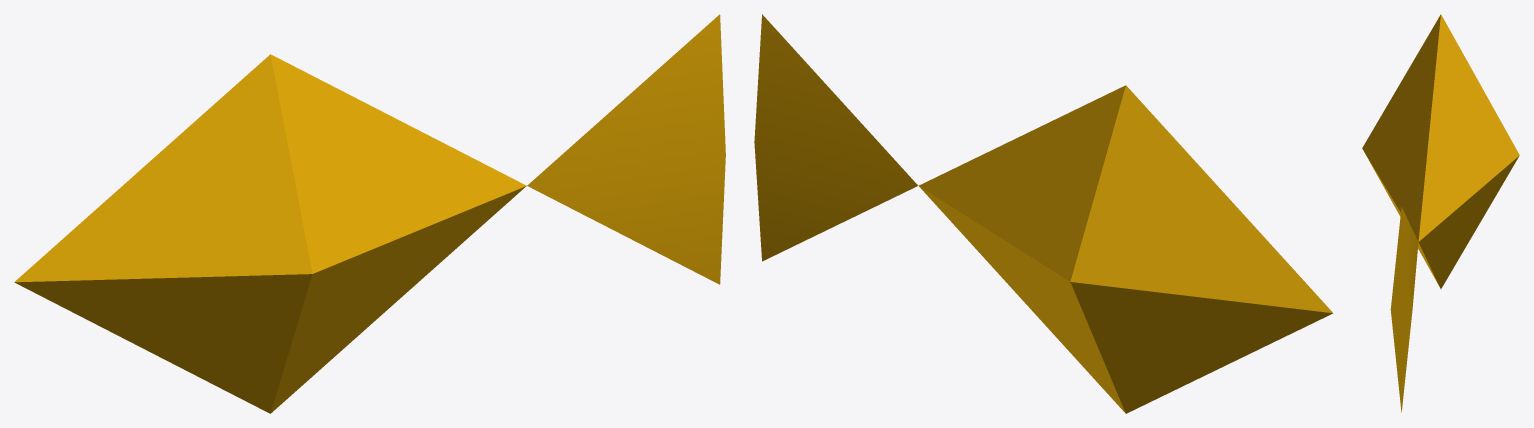
File: FishMesh.fbx
3 views of the same model, side by side, from view 1: azimuth 30°, elevation 25°; view 2: azimuth 150°, elevation 25°; view 3: azimuth 270°, elevation 25° (orthographic). The views are drawn at different scales.
Parts seen in each view (by area): view 1: FishMesh; view 2: FishMesh; view 3: FishMesh.
Boxes of the visible parts, <box> form: FishMesh: <box>14,14,725,413</box>; FishMesh: <box>754,14,1333,413</box>; FishMesh: <box>1362,14,1519,412</box>.
Bounding box in the file's own units: 194 × 100 × 51.87.
